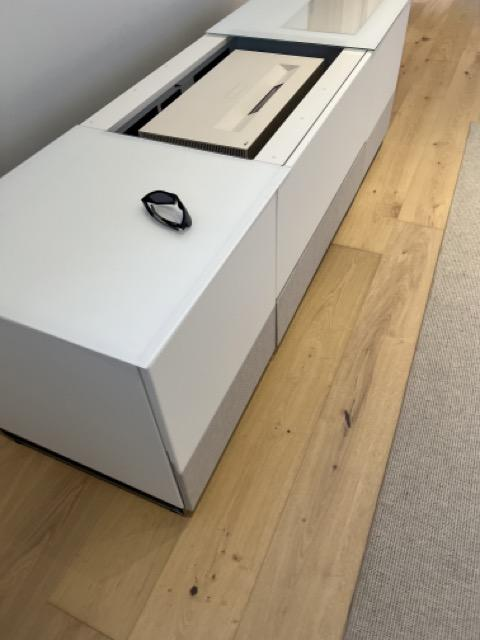Sunglasses: (142, 189, 194, 236)
